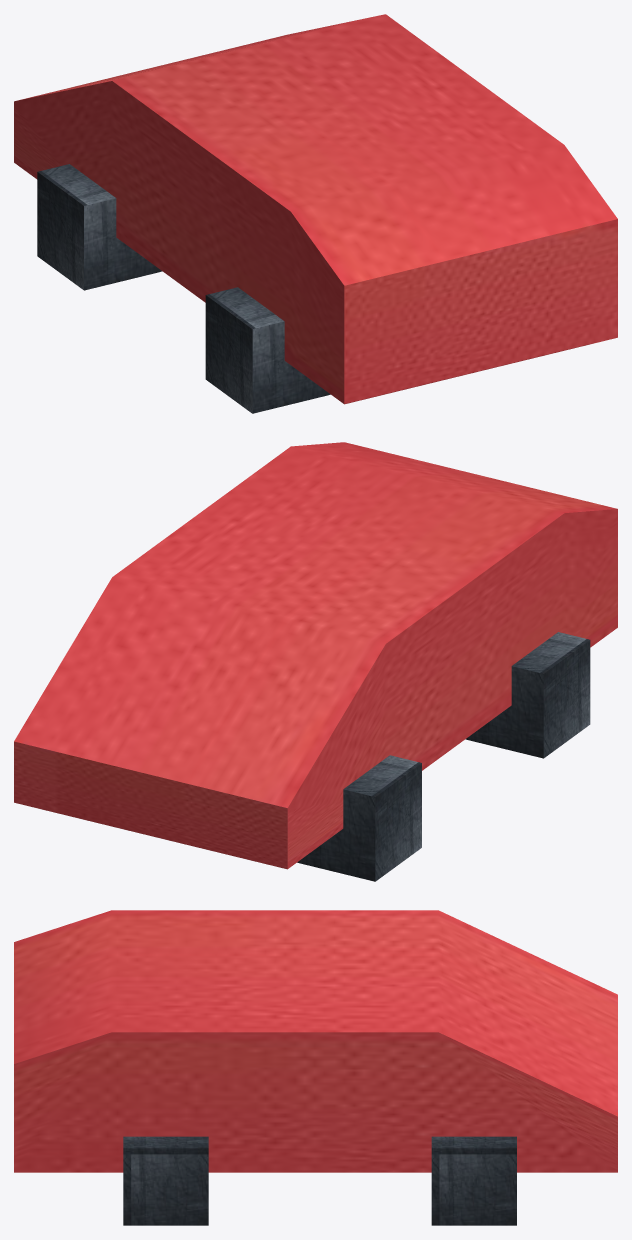
Rendered from che.obj.
3 renders of one model, top to bottom at view 1: azimuth 30°, elevation 25°; view 2: azimuth 150°, elevation 25°; view 3: azimuth 270°, elevation 25°, orthographic. The views are drawn at different scales.
Visible parts, largest first — view 1: group1 pCube1, group1 pCube4, group1 pCube5; view 2: group1 pCube1, group1 pCube4, group1 pCube5; view 3: group1 pCube1, group1 pCube3, pCube2 group1.
Boxes of the visible parts, <box> form: group1 pCube1: <box>14,14,617,404</box>; group1 pCube4: <box>205,287,330,413</box>; group1 pCube5: <box>37,164,162,290</box>; group1 pCube1: <box>14,442,617,869</box>; group1 pCube4: <box>465,632,590,758</box>; group1 pCube5: <box>297,755,421,881</box>; group1 pCube1: <box>14,910,617,1172</box>; group1 pCube3: <box>123,1136,208,1225</box>; pCube2 group1: <box>431,1136,516,1225</box>.
Bounding box in the file's own units: 4.11 × 2.35 × 7.08.
2 materials, 2 textured.
